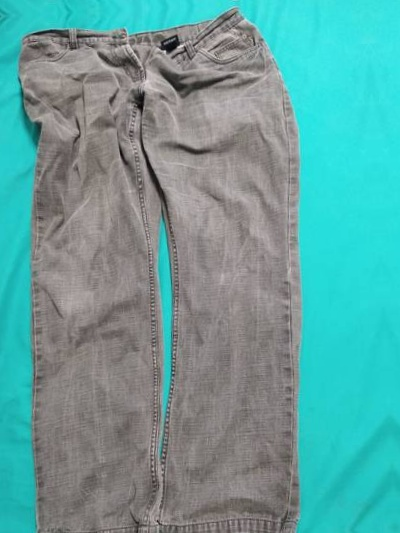Pants: (0, 10, 332, 533), (0, 0, 303, 5)
